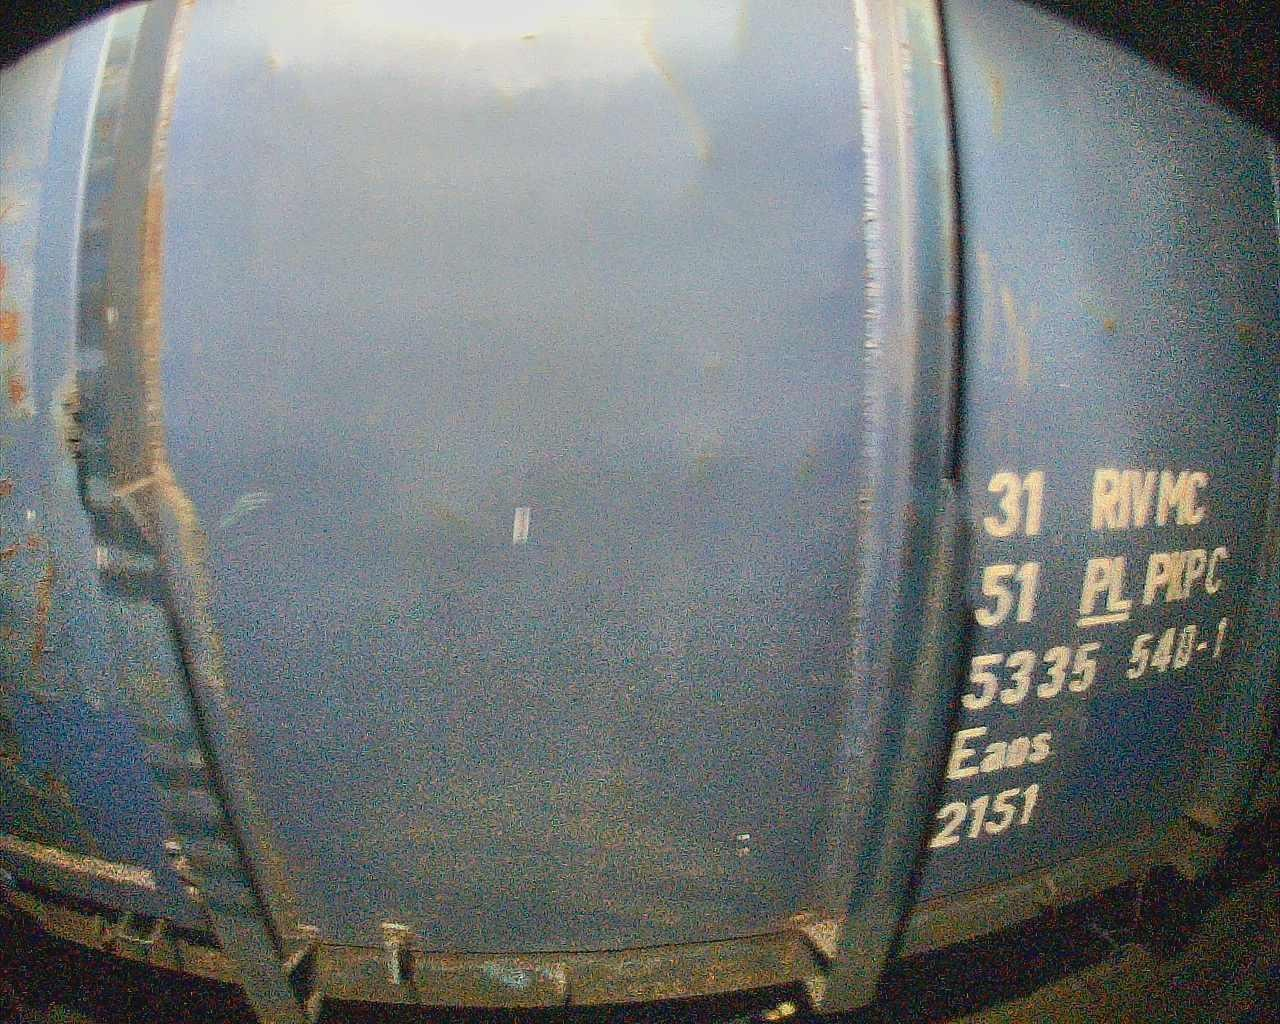UIC: (924, 463, 1233, 856)
